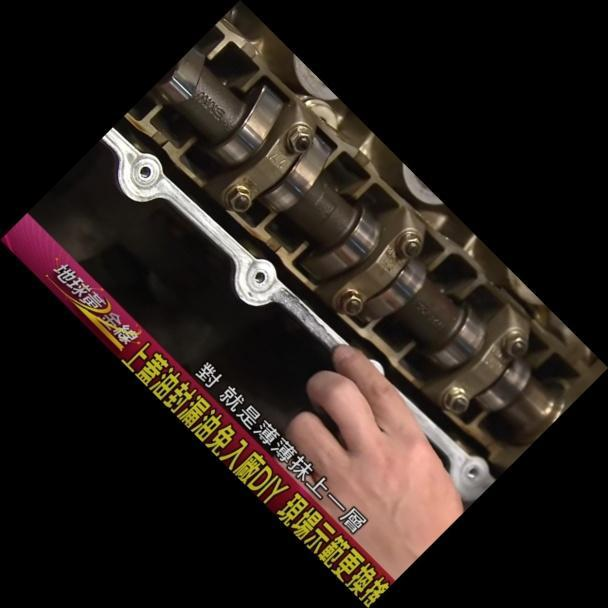hole: (134, 161, 156, 184), (250, 267, 269, 286)
